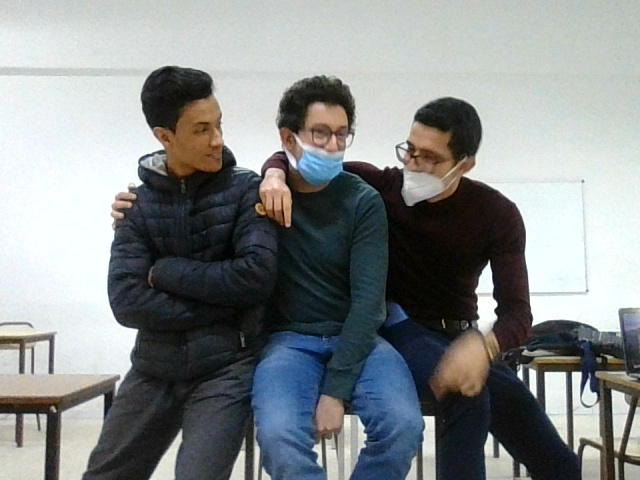mask_weared_incorrect: (392, 98, 492, 205), (280, 72, 358, 188)
without_mask: (139, 72, 238, 175)
